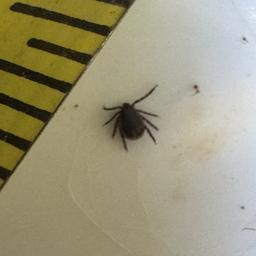Ixodes scapularis: (97, 96, 160, 157)
